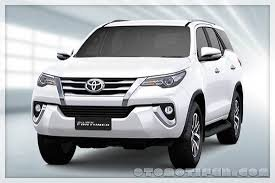mobil: (27, 17, 247, 168)
